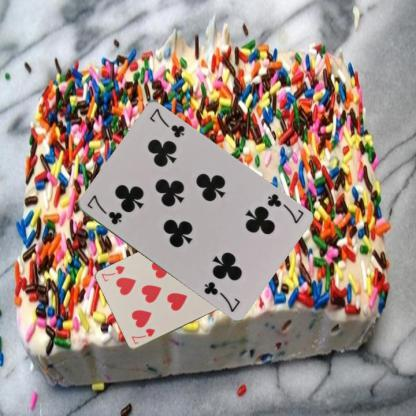7c: (264, 191, 305, 225), (84, 192, 123, 226)
7h: (129, 326, 156, 345)
